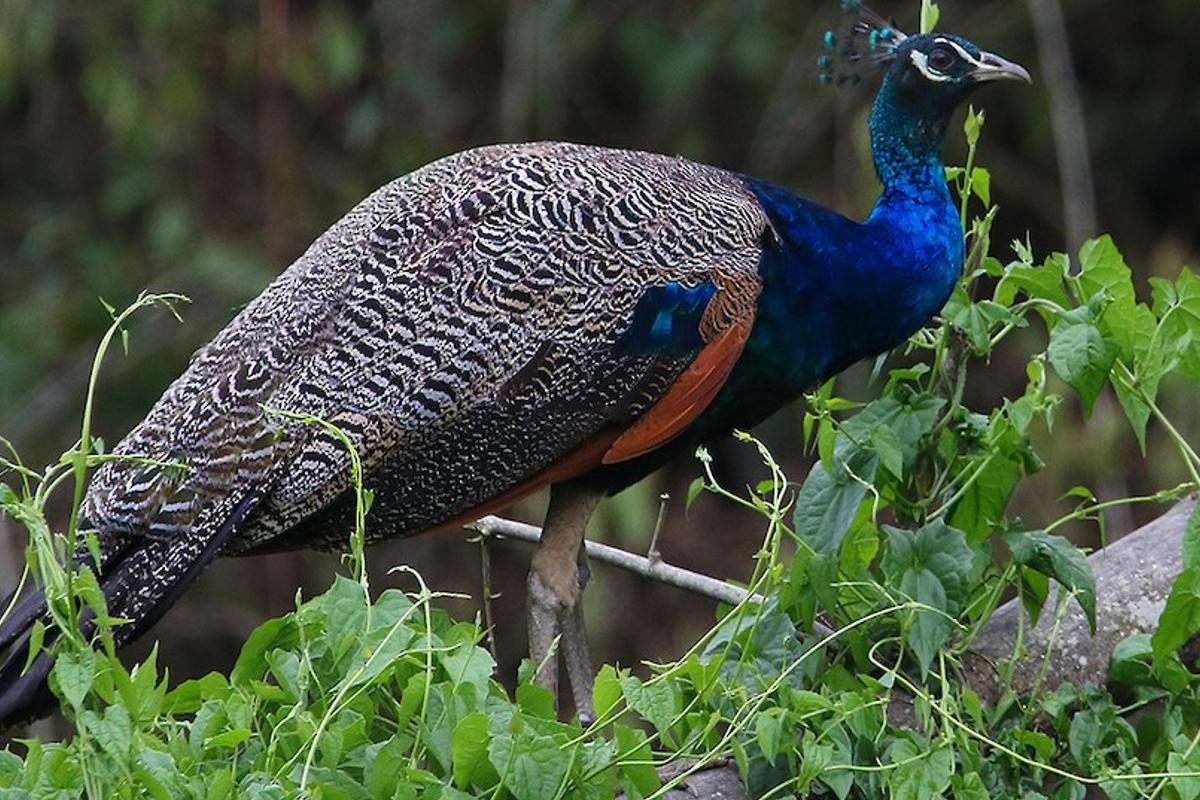peacock: (45, 20, 1047, 653)
